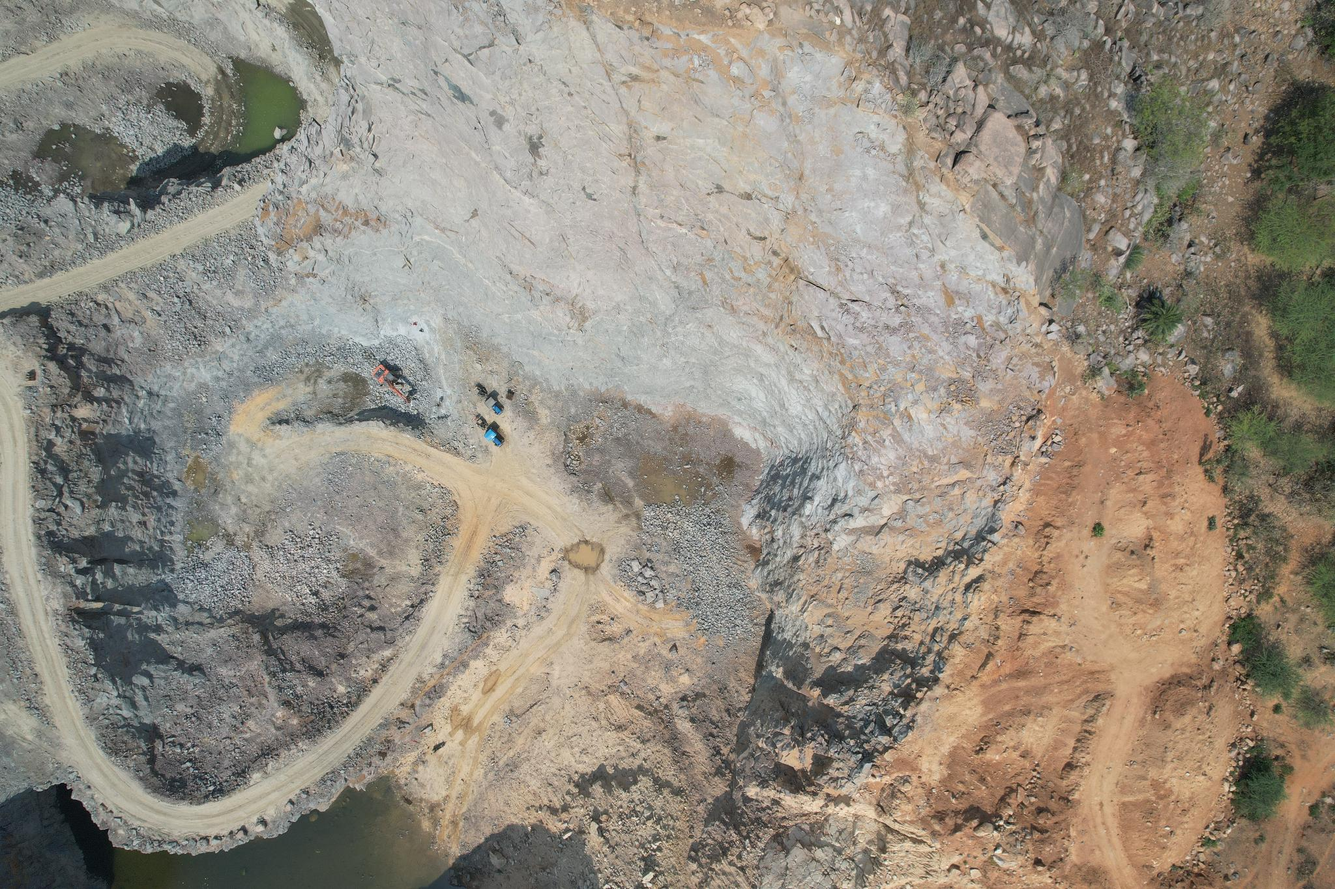benches: (0, 388, 583, 853), (0, 180, 268, 310), (0, 25, 235, 148), (458, 582, 595, 779)
excavator: (367, 356, 423, 412)
